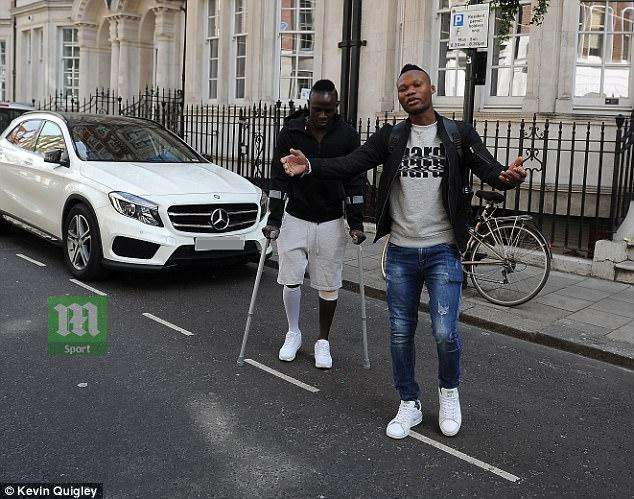crutches: (234, 56, 377, 391)
